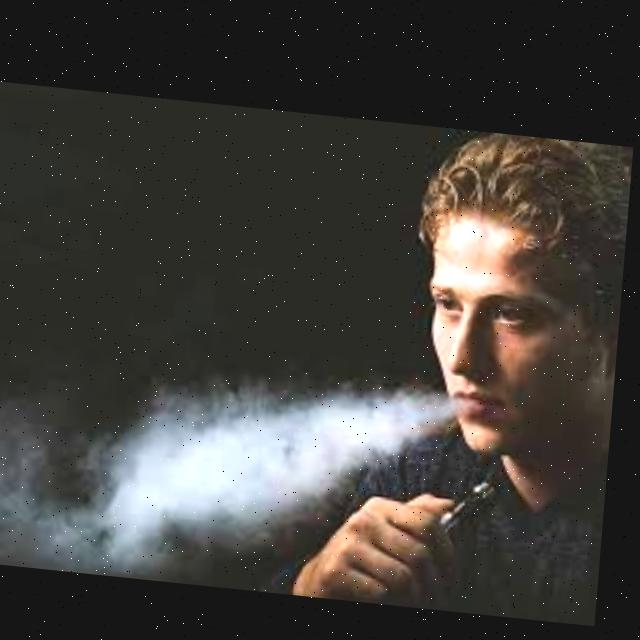vape: (448, 456, 511, 527)
